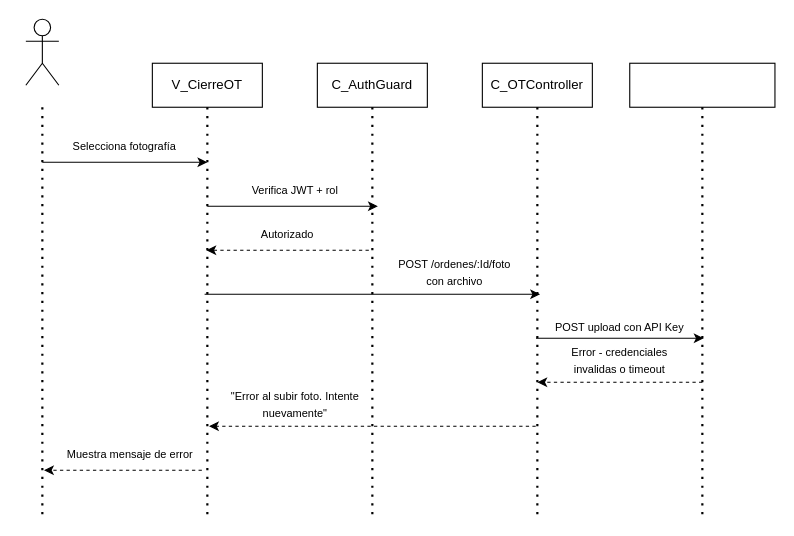
Some shapes in this 794 by 536 pixel diagram are drawn without their labels. Here are the shapes that lost their labels. From the top down, the centre of each, then its label:
At [42,51]: "Técnico".
At [702,84]: "Cloudinary".
